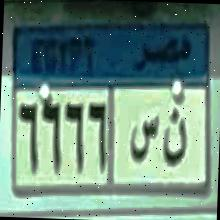6: (15, 100, 40, 172), (62, 99, 86, 173), (86, 99, 109, 174), (40, 102, 63, 174)
noon: (161, 106, 188, 173)
seen: (129, 111, 159, 168)
